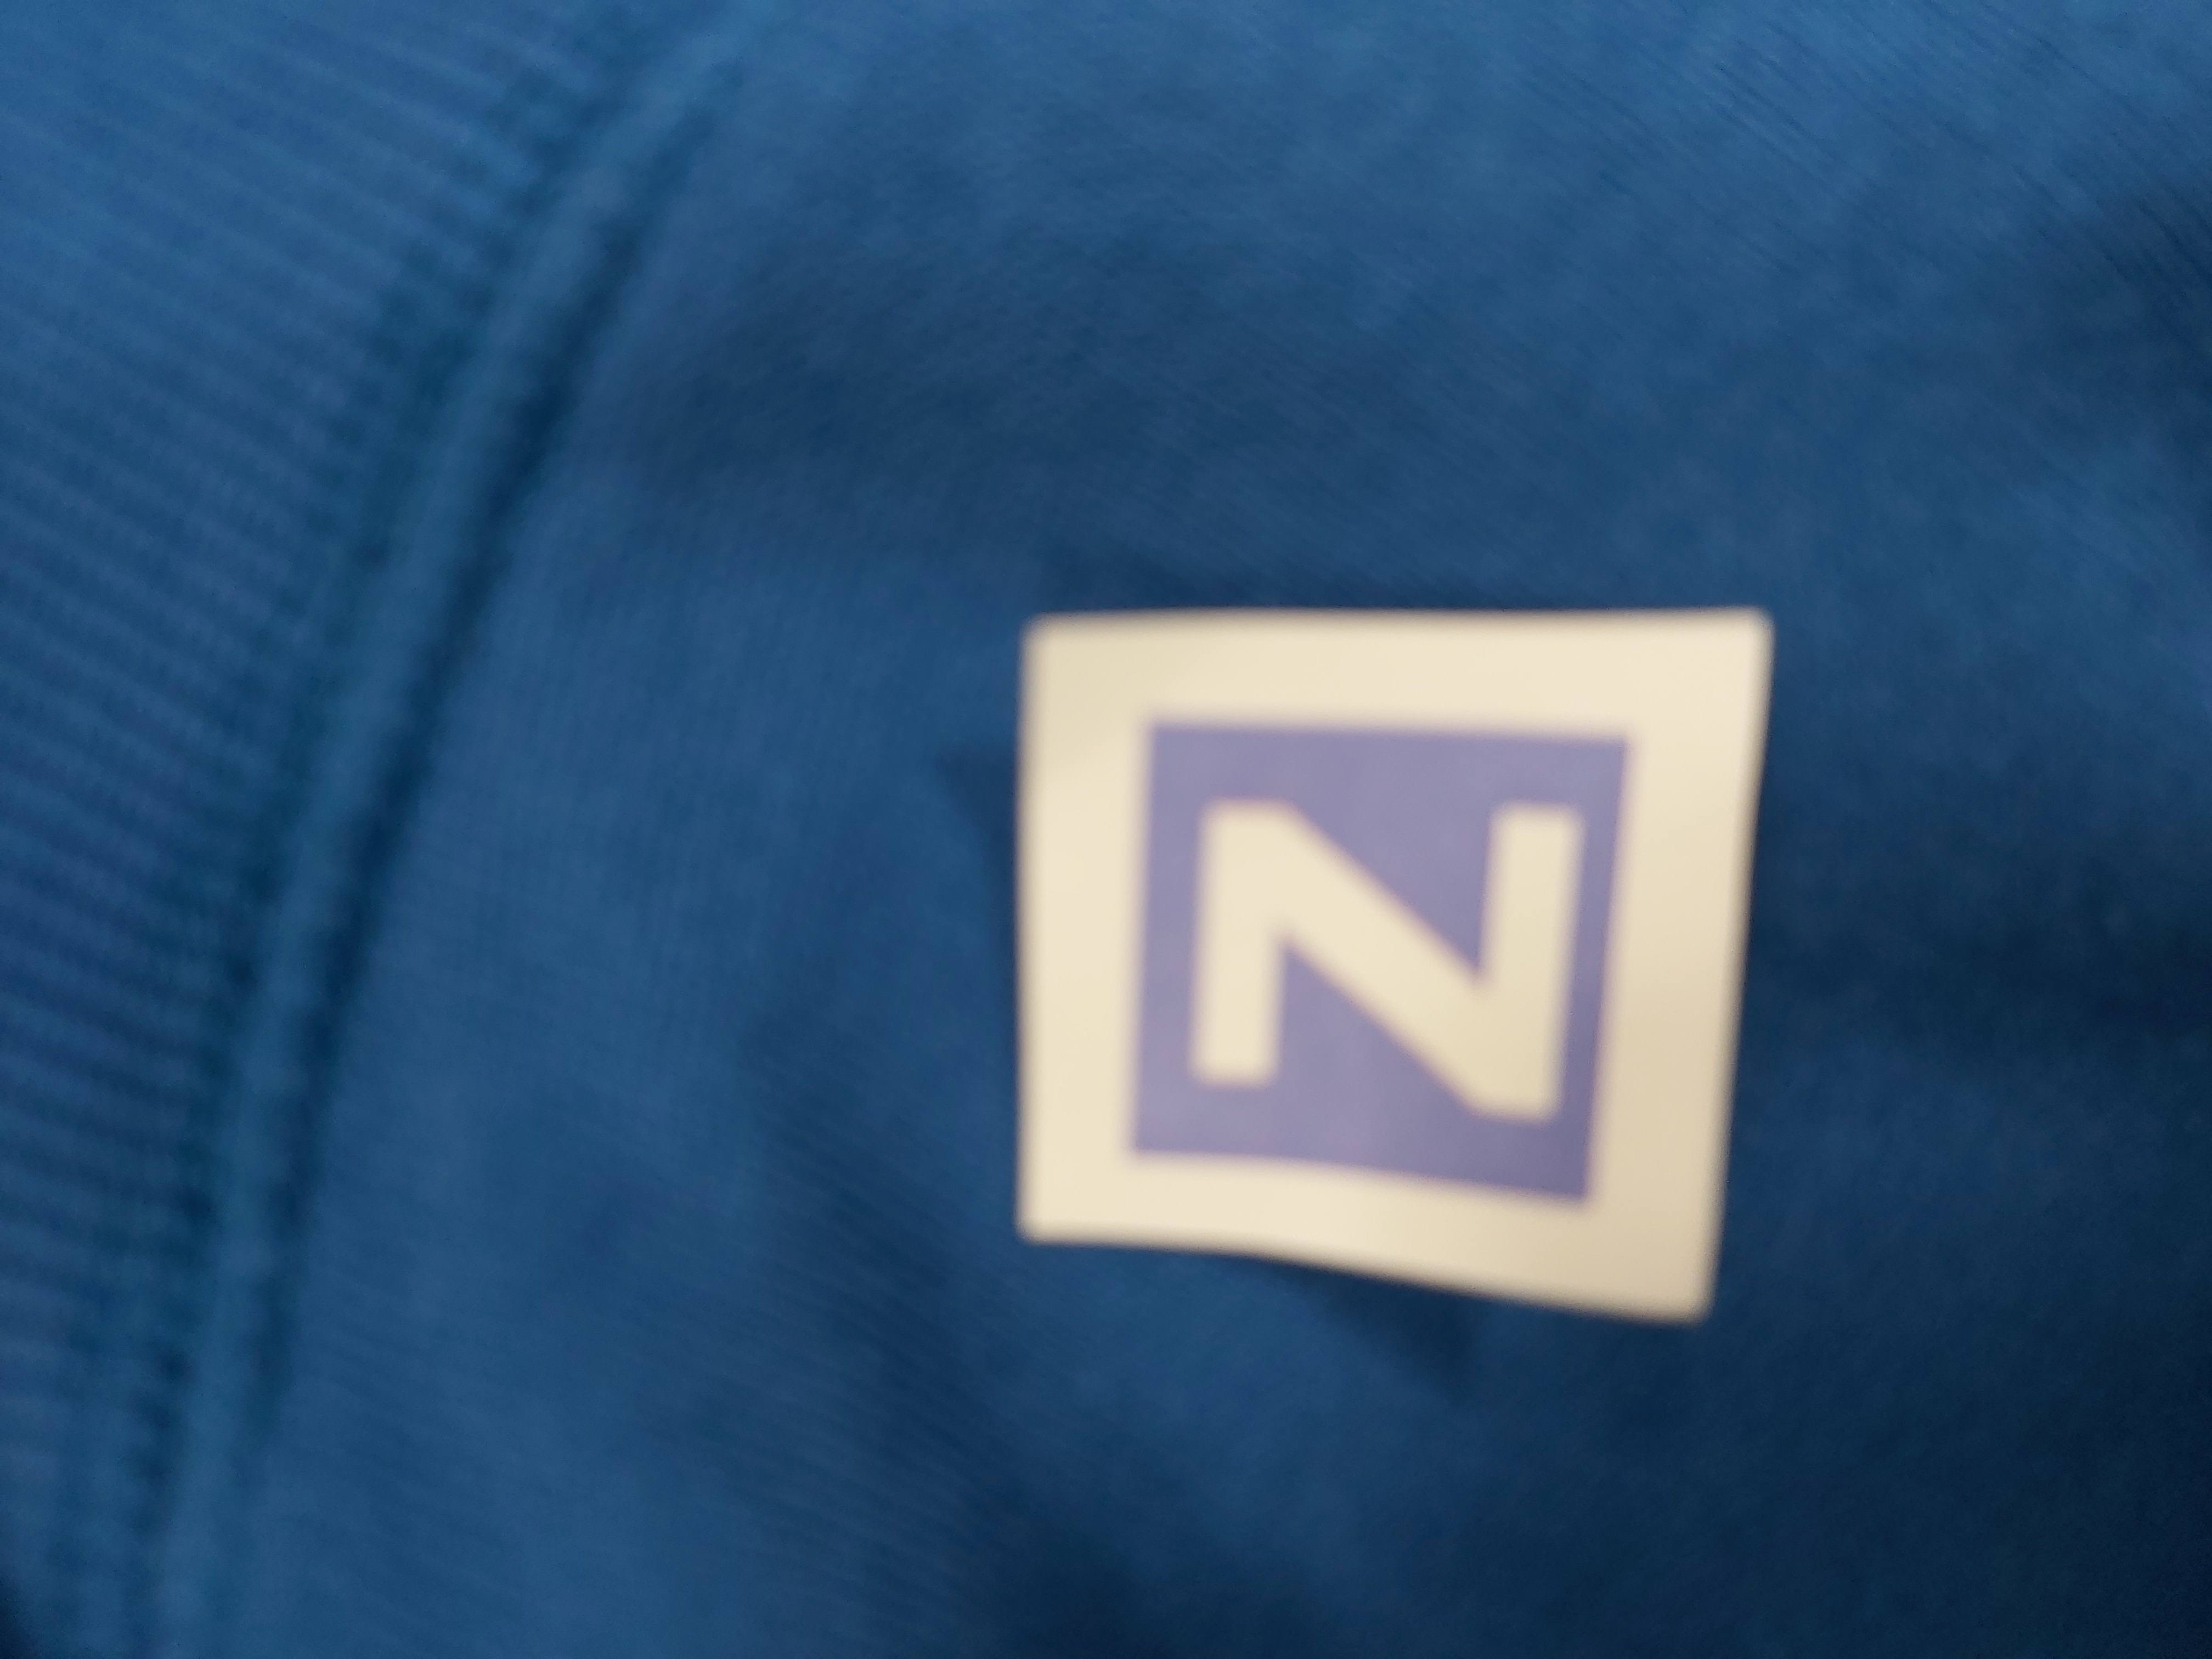blue marker: (982, 554, 1771, 1344)
